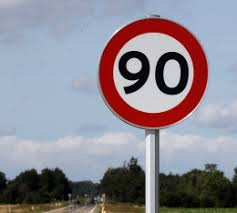Speed_limit_90km: (97, 17, 209, 131)
